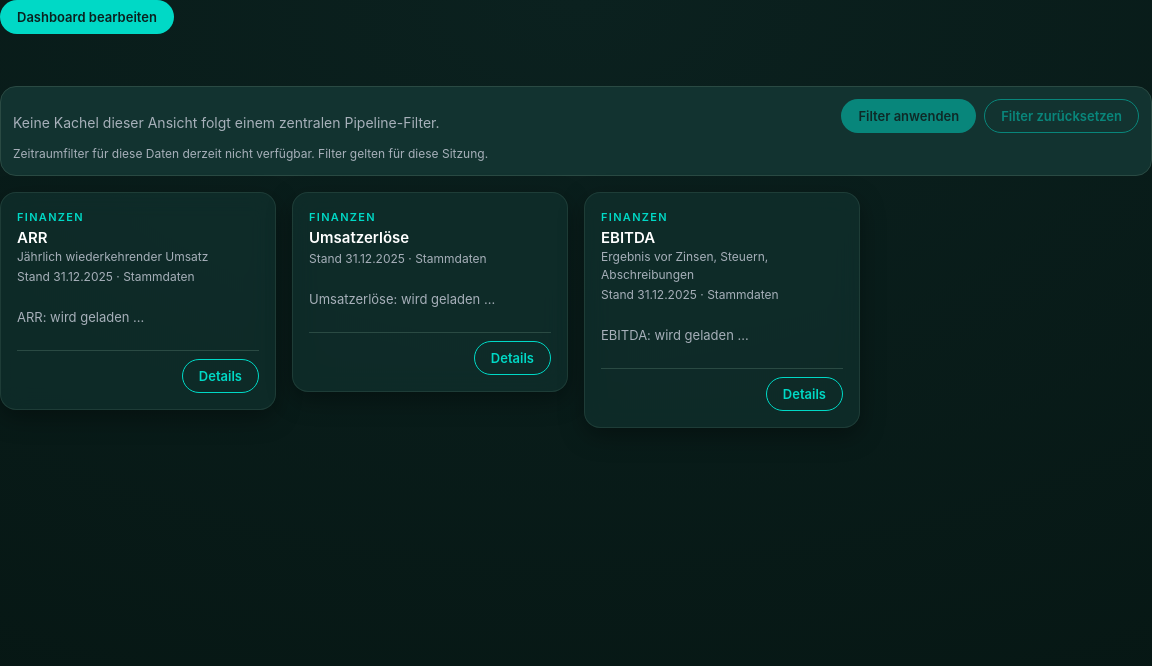
Test case: DashboardWorkspace – Bearbeiten › verschiebt eine Kachel, sagt es an und hält den Fokus auf der Schaltfläche
Click the button "Dashboard bearbeiten" at {"x": 87, "y": 17}, box [0,0,174,34]
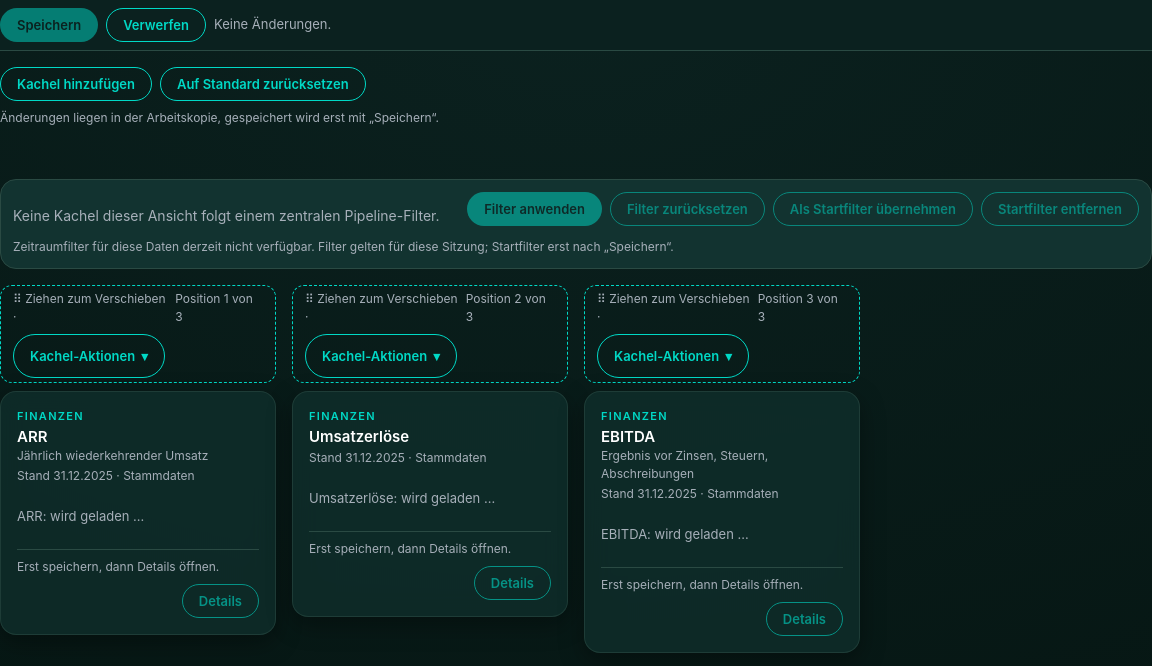
Click the button "Kachel-Aktionen ▾" below "Position 1 von 3" at {"x": 89, "y": 356}, box [13,334,165,378]
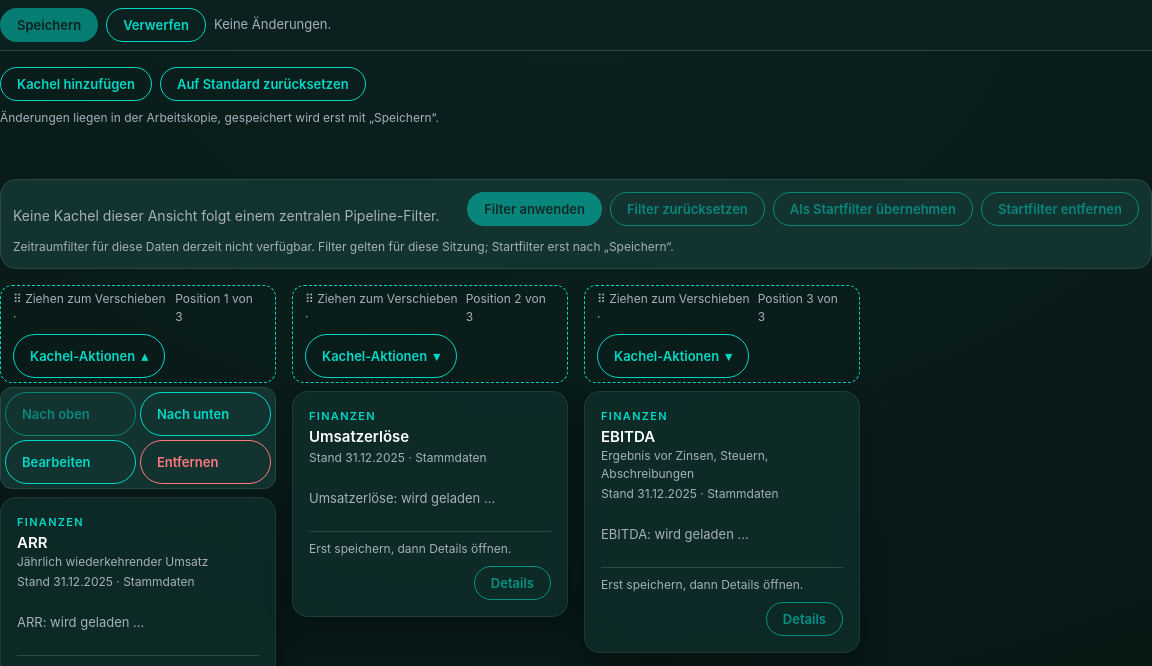
Click the button "Kachel-Aktionen ▾" below "Position 2 von 3" at {"x": 381, "y": 356}, box [305,334,457,378]
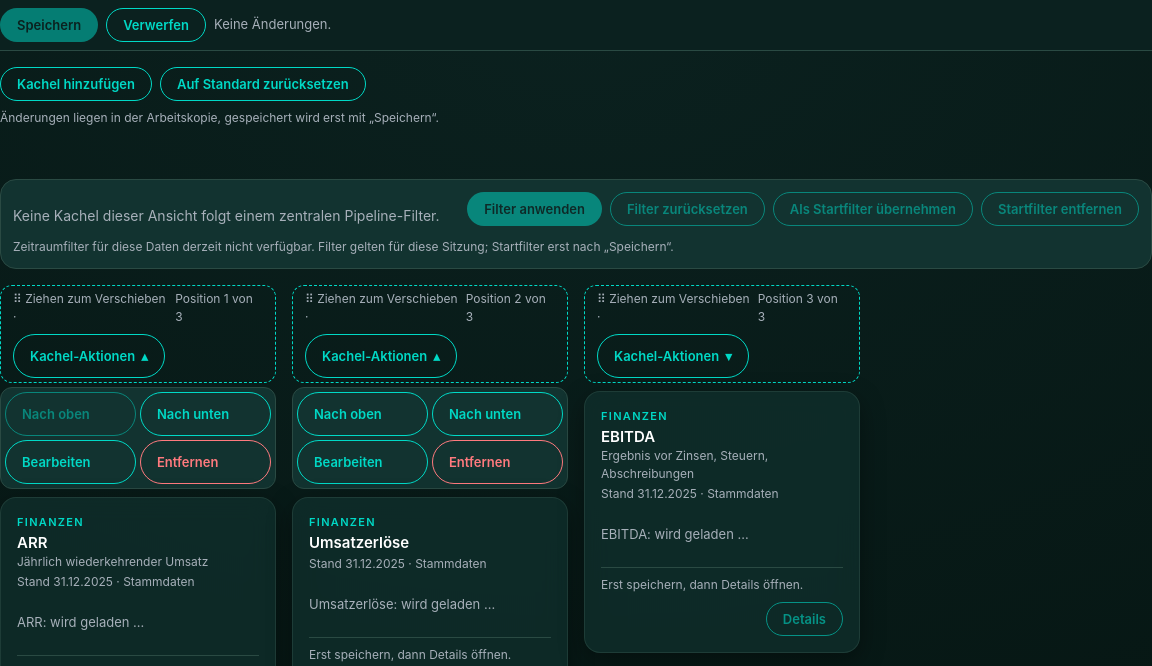
Click the button "Kachel-Aktionen ▾" at {"x": 673, "y": 356}, box [597,334,749,378]
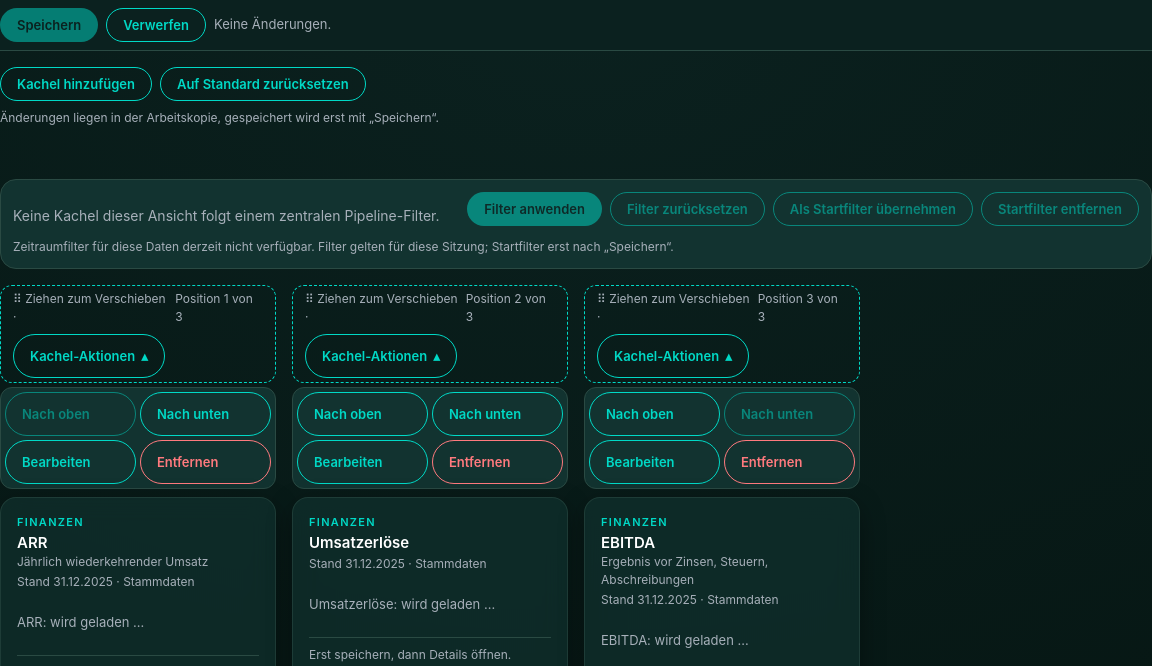
Click the button "Nach unten" below "Position 1 von 3" at {"x": 206, "y": 414}, box [140,392,271,436]
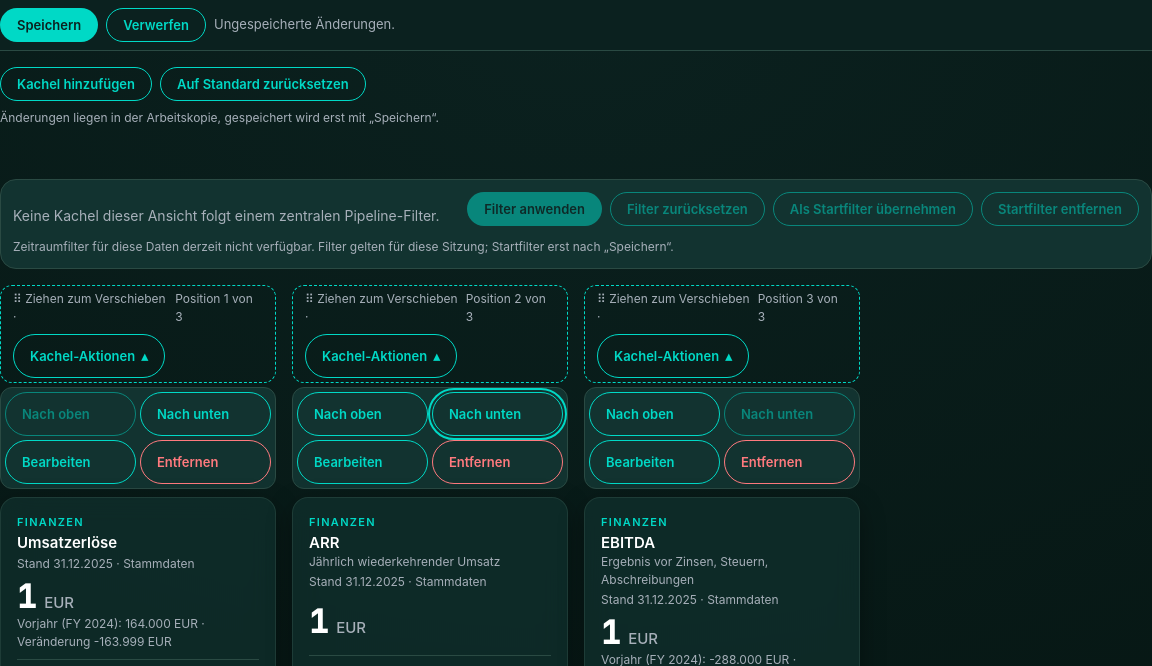
Expected: the text "Ungespeicherte Änderungen." is shown, [214,16,395,32]
